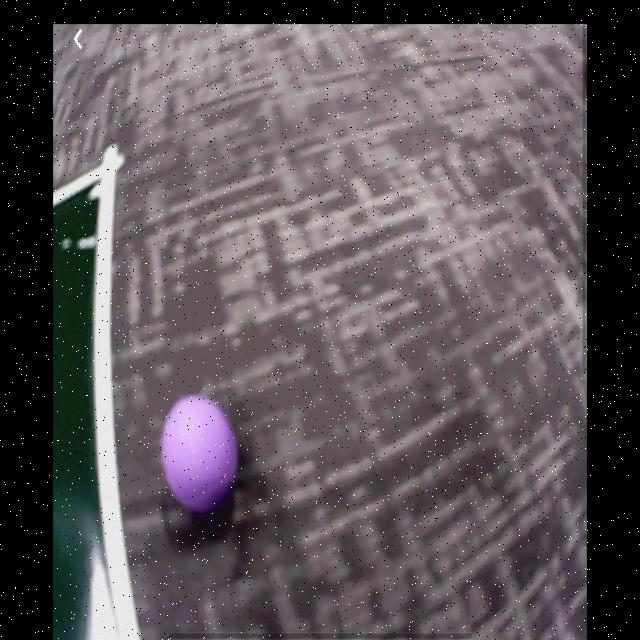ball: (161, 394, 240, 516)
